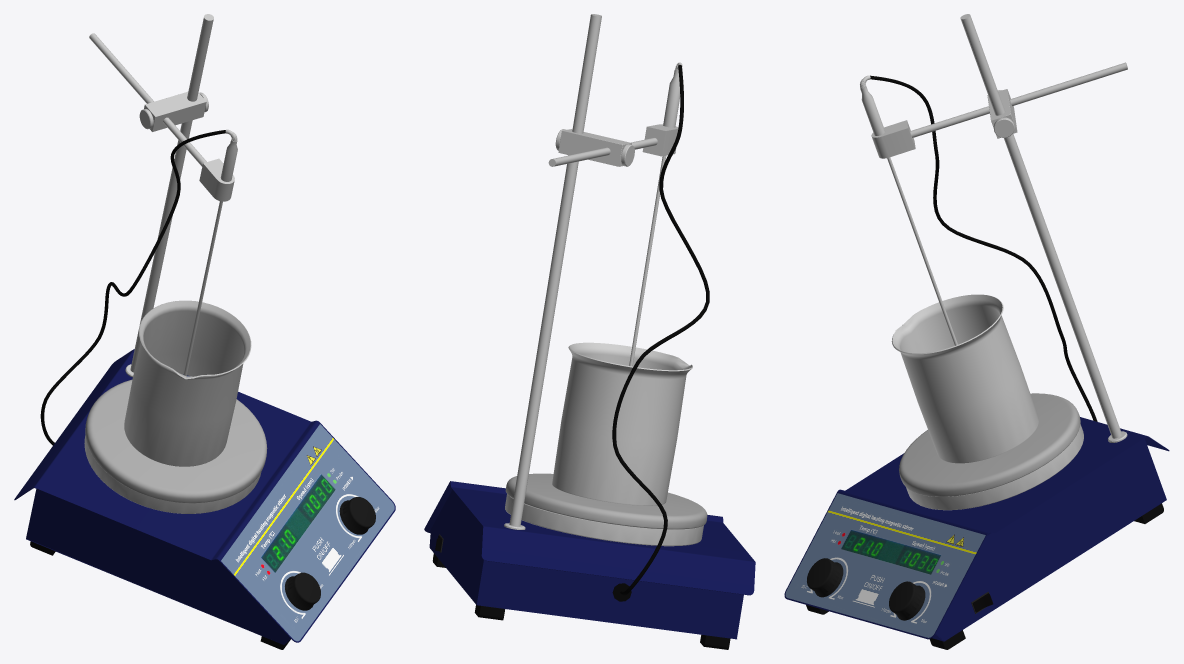
The model's file is Digital_Magnetic_Stirrer_Hot_Plate.fbx.
The picture shows the model from 3 angles, left to right: view 1: azimuth 30°, elevation 25°; view 2: azimuth 150°, elevation 25°; view 3: azimuth 270°, elevation 25°; orthographic projection. The views are drawn at different scales.
Visible parts, largest first — view 1: Main_Layer; view 2: Main_Layer; view 3: Main_Layer.
Boxes of the visible parts, left/top/right/bottom form: Main_Layer: left=14, top=14, right=395, bottom=649; Main_Layer: left=424, top=14, right=755, bottom=649; Main_Layer: left=784, top=14, right=1169, bottom=649.
Size of the model in its own units: 0.5624 by 0.9187 by 0.537.
11 materials, 1 textured.
